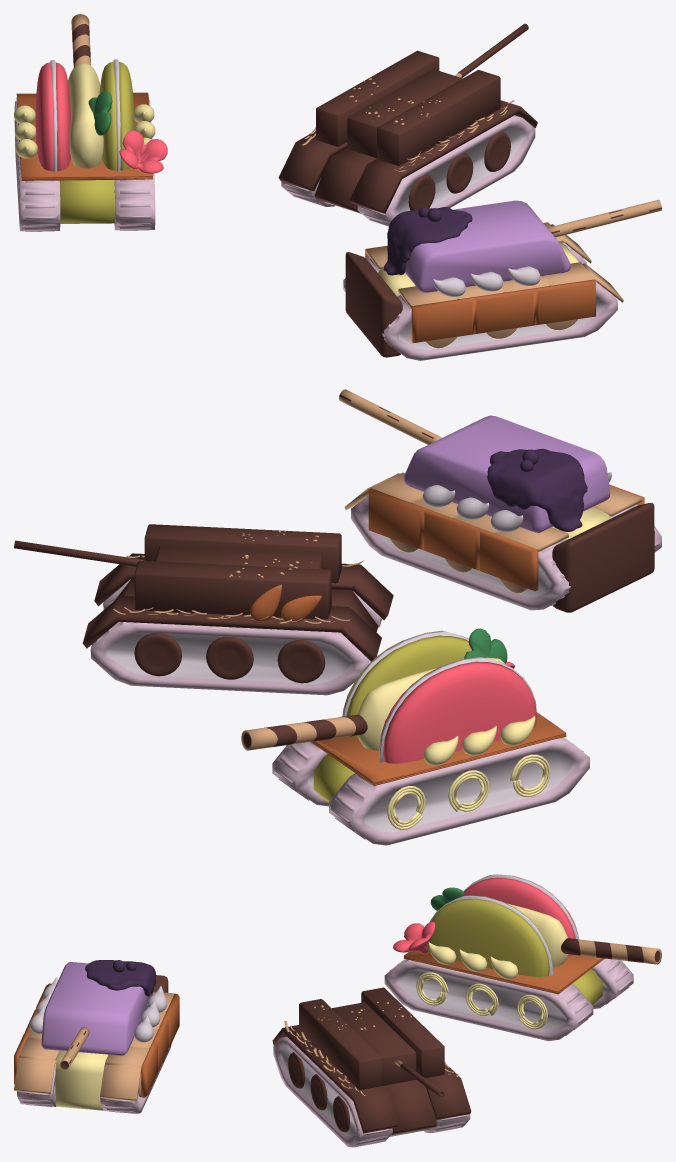
The model's file is tanks.fbx.
3 renders of one model, top to bottom at view 1: azimuth 30°, elevation 25°; view 2: azimuth 150°, elevation 25°; view 3: azimuth 270°, elevation 25°, orthographic. The views are drawn at different scales.
Visible parts, largest first — view 1: Tank_mure; view 2: Tank_mure; view 3: Tank_mure.
Part boxes in pixels (left/top/right/bottom): Tank_mure: left=14, top=14, right=661, bottom=360; Tank_mure: left=14, top=389, right=661, bottom=845; Tank_mure: left=14, top=874, right=661, bottom=1147.
Bounding box in the file's own units: 3695 × 900 × 4586.
